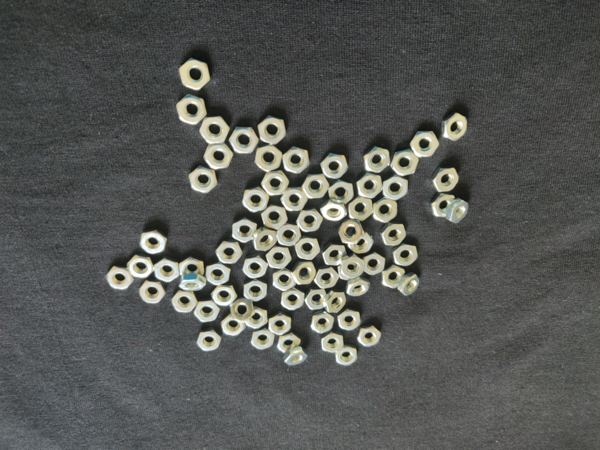nut: (179, 57, 212, 90), (257, 114, 288, 146), (200, 114, 231, 146), (187, 164, 220, 194), (175, 95, 208, 125), (441, 111, 470, 142), (229, 126, 260, 154), (282, 145, 310, 175), (411, 129, 438, 158), (320, 153, 350, 179), (362, 148, 392, 174), (262, 170, 290, 197), (281, 184, 308, 212), (138, 280, 167, 306), (215, 240, 243, 266), (242, 188, 270, 214), (255, 146, 283, 172), (205, 143, 233, 169), (302, 173, 330, 199), (261, 205, 289, 231), (106, 265, 135, 290), (139, 231, 168, 256), (432, 167, 459, 193), (155, 256, 181, 283), (430, 192, 457, 218), (392, 150, 419, 176), (296, 208, 324, 233), (295, 237, 323, 262), (382, 177, 410, 202), (347, 195, 375, 220), (128, 253, 154, 279), (231, 297, 257, 323), (231, 218, 258, 243), (381, 223, 407, 248), (361, 252, 387, 277), (243, 255, 268, 281), (310, 310, 336, 335), (329, 179, 354, 204), (358, 174, 383, 199), (267, 246, 293, 270), (381, 266, 407, 290), (250, 329, 277, 352), (447, 196, 469, 224), (204, 264, 232, 286), (339, 221, 365, 244), (253, 227, 277, 251), (358, 326, 383, 349), (305, 288, 330, 311), (273, 270, 298, 293), (197, 330, 222, 353), (173, 291, 198, 314), (243, 280, 269, 302), (212, 285, 238, 307), (324, 242, 347, 266), (280, 290, 305, 312), (221, 315, 246, 337), (293, 262, 318, 284), (338, 308, 361, 331), (195, 301, 219, 323), (269, 314, 293, 336), (394, 244, 418, 266), (341, 256, 363, 280), (314, 268, 339, 289), (325, 291, 347, 314), (398, 273, 420, 296), (350, 234, 374, 255), (277, 334, 302, 354), (321, 203, 347, 222), (336, 345, 358, 367), (277, 224, 299, 246), (245, 308, 268, 329), (178, 274, 206, 291), (283, 347, 309, 365), (346, 278, 372, 296), (321, 334, 345, 353), (180, 257, 205, 275)
